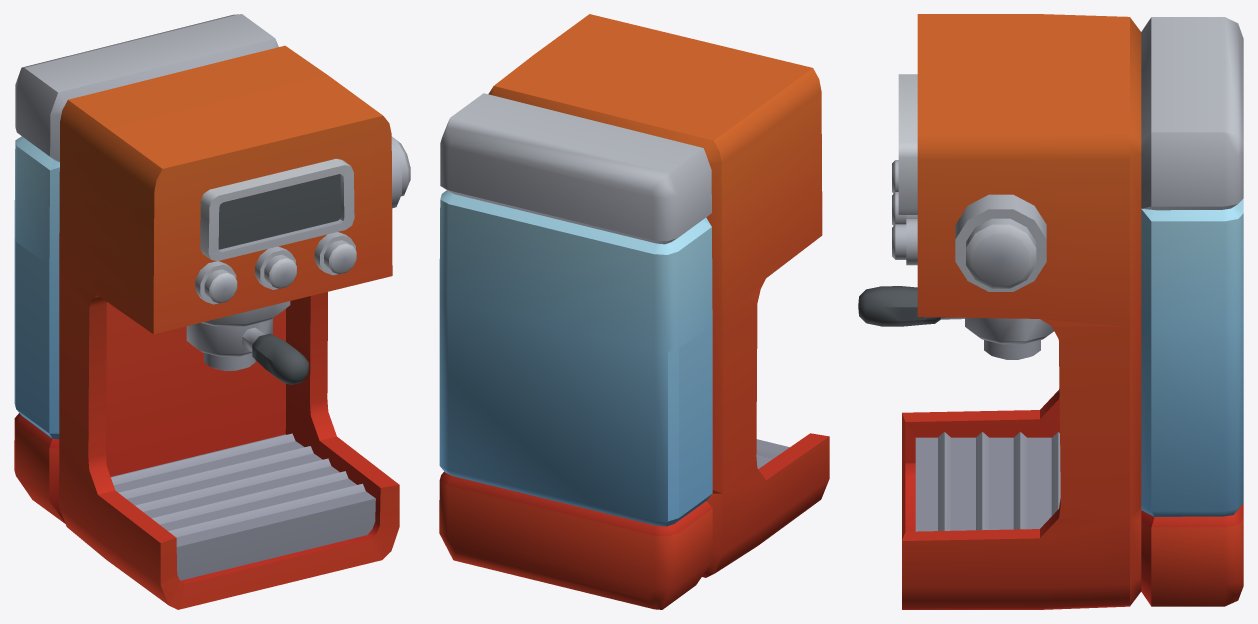
Rendered from coffee-machine.glb.
The picture shows the model from 3 angles, left to right: view 1: azimuth 30°, elevation 25°; view 2: azimuth 150°, elevation 25°; view 3: azimuth 270°, elevation 25°; orthographic projection. The views are drawn at different scales.
Parts seen in each view (by area): view 1: coffee_machine, coffee_machine_handle; view 2: coffee_machine; view 3: coffee_machine, coffee_machine_handle.
Boxes of the visible parts, x1,y1,x2,y2 form: coffee_machine: [14, 14, 410, 609]; coffee_machine_handle: [242, 327, 308, 384]; coffee_machine: [439, 14, 829, 609]; coffee_machine: [892, 14, 1243, 609]; coffee_machine_handle: [858, 286, 964, 326].
Bounding box in the file's own units: 0.9445 × 1.4 × 1.02.
1 material, 1 textured.
